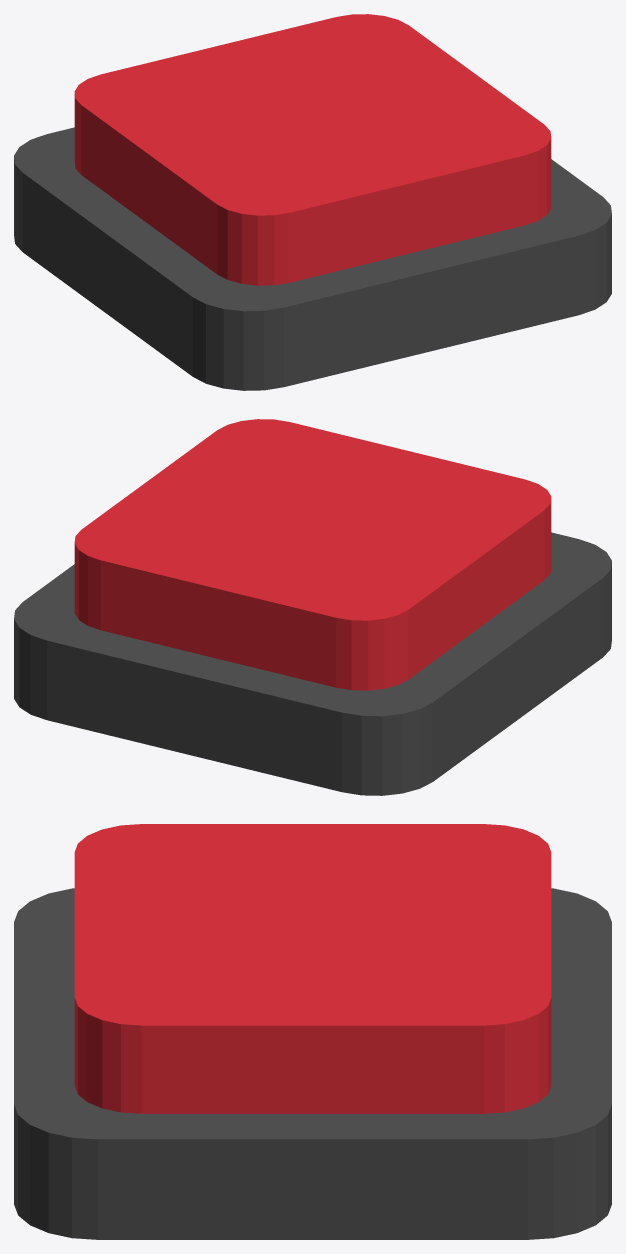
The model's file is Button.fbx.
3 renders of one model, top to bottom at view 1: azimuth 30°, elevation 25°; view 2: azimuth 150°, elevation 25°; view 3: azimuth 270°, elevation 25°, orthographic. The views are drawn at different scales.
Visible parts, largest first — view 1: Cube.001, Cube; view 2: Cube.001, Cube; view 3: Cube.001, Cube.
Boxes of the visible parts, <box> form: Cube.001: <box>74,14,551,285</box>; Cube: <box>14,127,611,390</box>; Cube.001: <box>74,419,551,690</box>; Cube: <box>14,532,611,795</box>; Cube.001: <box>74,824,551,1113</box>; Cube: <box>14,888,611,1239</box>.
Size of the model in its own units: 200 by 69.66 by 200.
